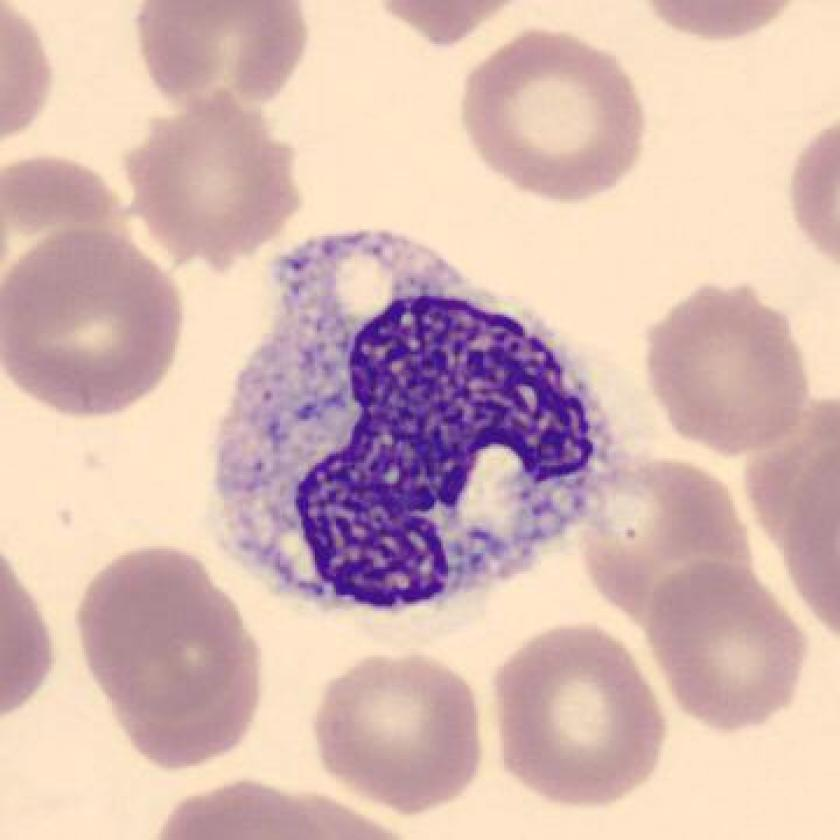monocyte: (192, 216, 643, 642)
